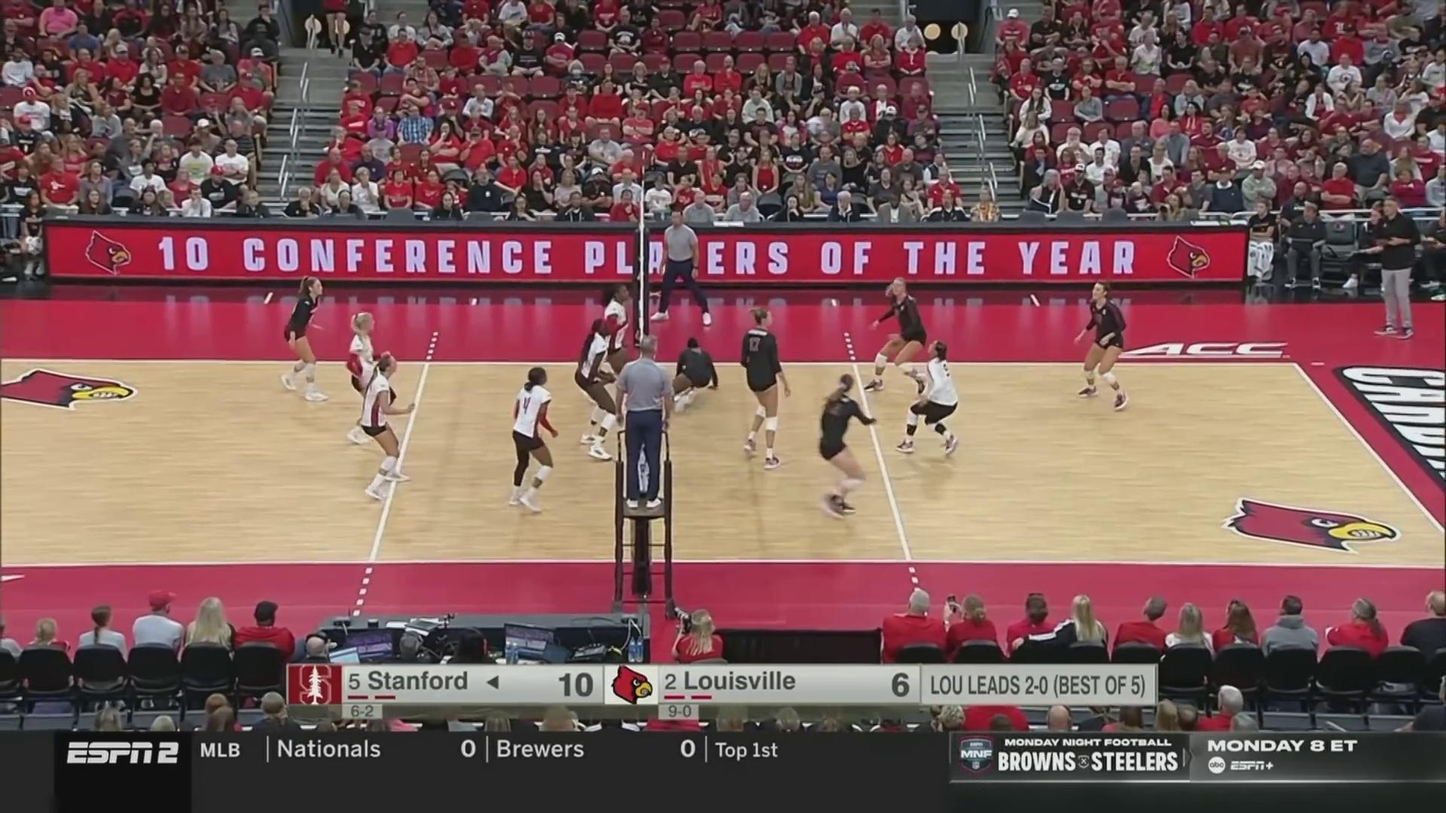player: (737, 306, 789, 466), (359, 353, 415, 500), (819, 374, 876, 513), (508, 367, 560, 512), (866, 279, 929, 394), (898, 341, 960, 454), (1074, 285, 1130, 408), (281, 276, 331, 403), (576, 319, 619, 462), (347, 310, 387, 443), (598, 282, 633, 430), (667, 338, 717, 412)
refree: (615, 336, 675, 508), (648, 209, 711, 325)
